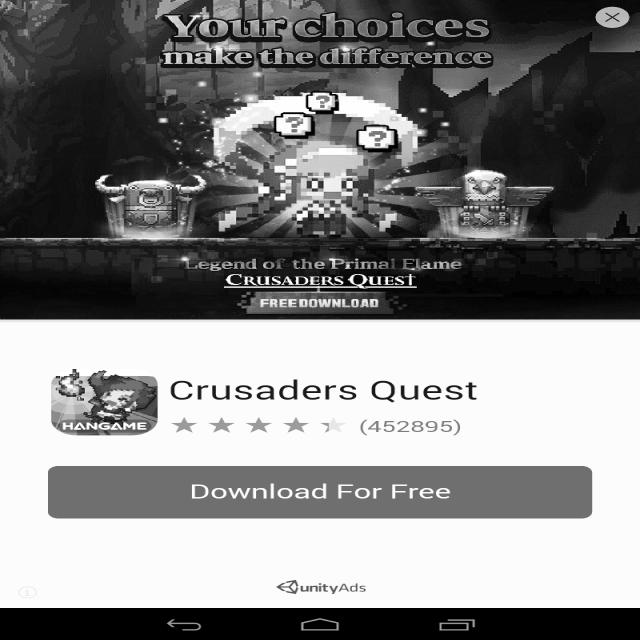Button: (31, 455, 604, 529)
ImageButton: (586, 6, 630, 32)
ImageView: (58, 70, 542, 292), (42, 370, 154, 434)
RatingBar: (164, 410, 354, 437)
TextView: (152, 8, 499, 64), (168, 374, 485, 404)
